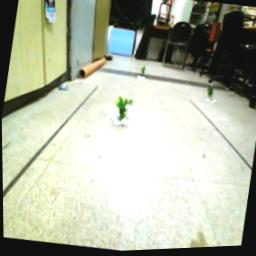herb: (115, 97, 137, 126), (206, 88, 217, 104), (140, 68, 148, 80)
